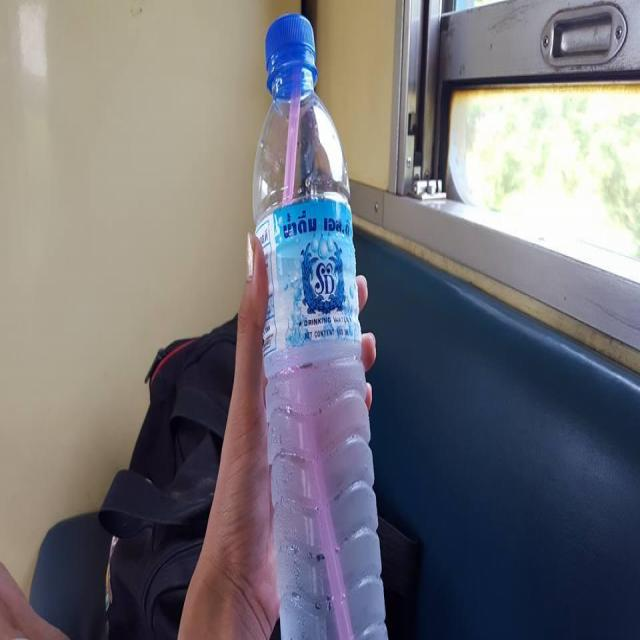bottle: (246, 3, 392, 640)
